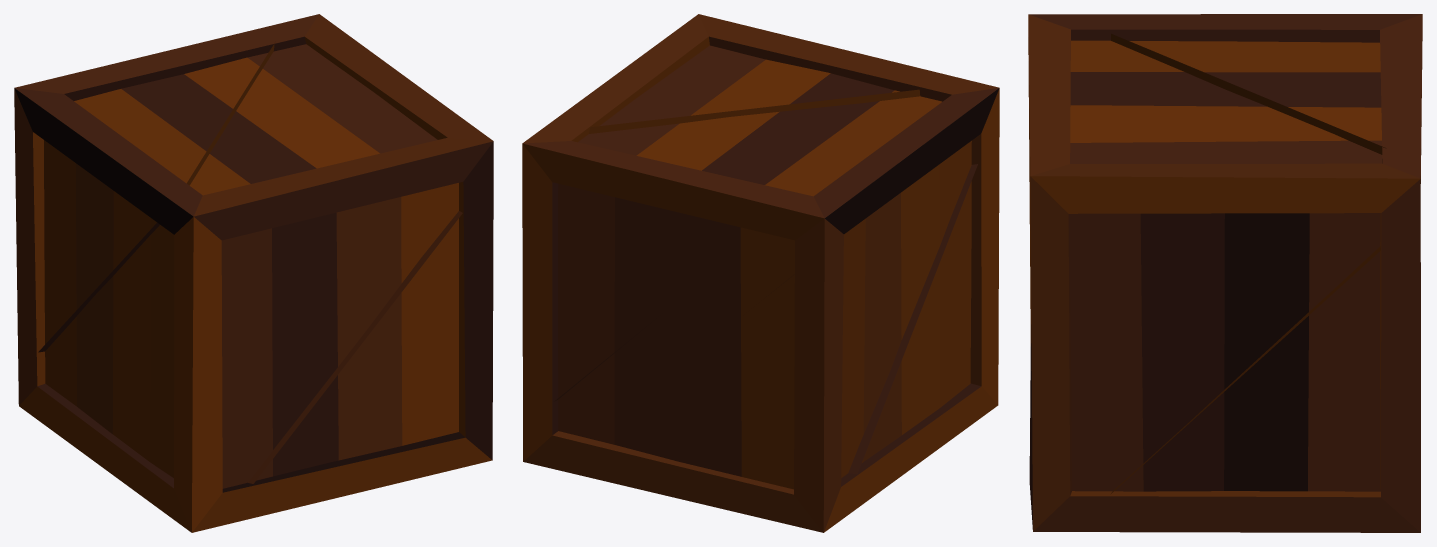
The model's file is syn_Crate.glb.
3 views of the same model, side by side, from view 1: azimuth 30°, elevation 25°; view 2: azimuth 150°, elevation 25°; view 3: azimuth 270°, elevation 25° (orthographic). The views are drawn at different scales.
Parts seen in each view (by area): view 1: Crate; view 2: Crate; view 3: Crate.
Boxes of the visible parts, <box> form: Crate: <box>14,14,493,532</box>; Crate: <box>522,14,999,532</box>; Crate: <box>1028,14,1422,532</box>.
Size of the model in its own units: 1.01 by 1.01 by 1.01.
